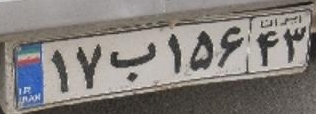character: (104, 37, 160, 86), (73, 39, 105, 93), (215, 23, 247, 71), (187, 27, 218, 74), (47, 45, 71, 99), (162, 29, 186, 76), (255, 29, 281, 72), (283, 26, 308, 66)
